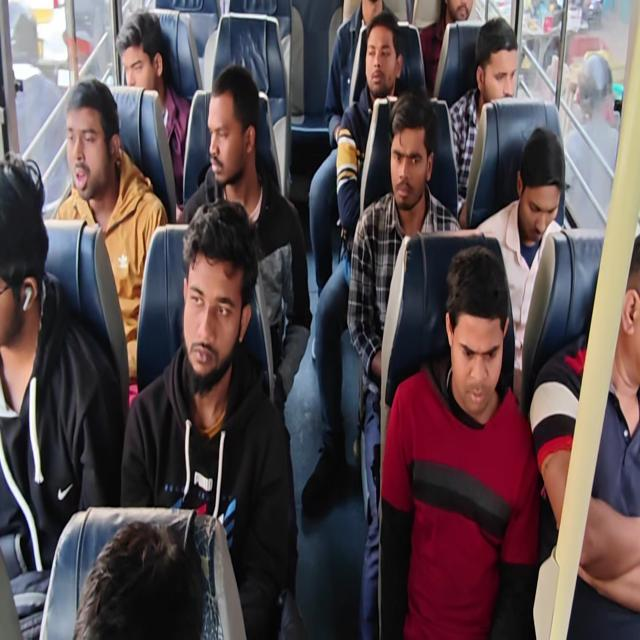person: (172, 200, 271, 404), (72, 506, 206, 640), (0, 148, 58, 368), (444, 230, 518, 400), (202, 62, 262, 197), (111, 9, 196, 100), (64, 72, 120, 202), (386, 83, 440, 212), (512, 137, 568, 244), (613, 221, 640, 414), (472, 20, 528, 99), (366, 5, 403, 111), (444, 0, 472, 32)
